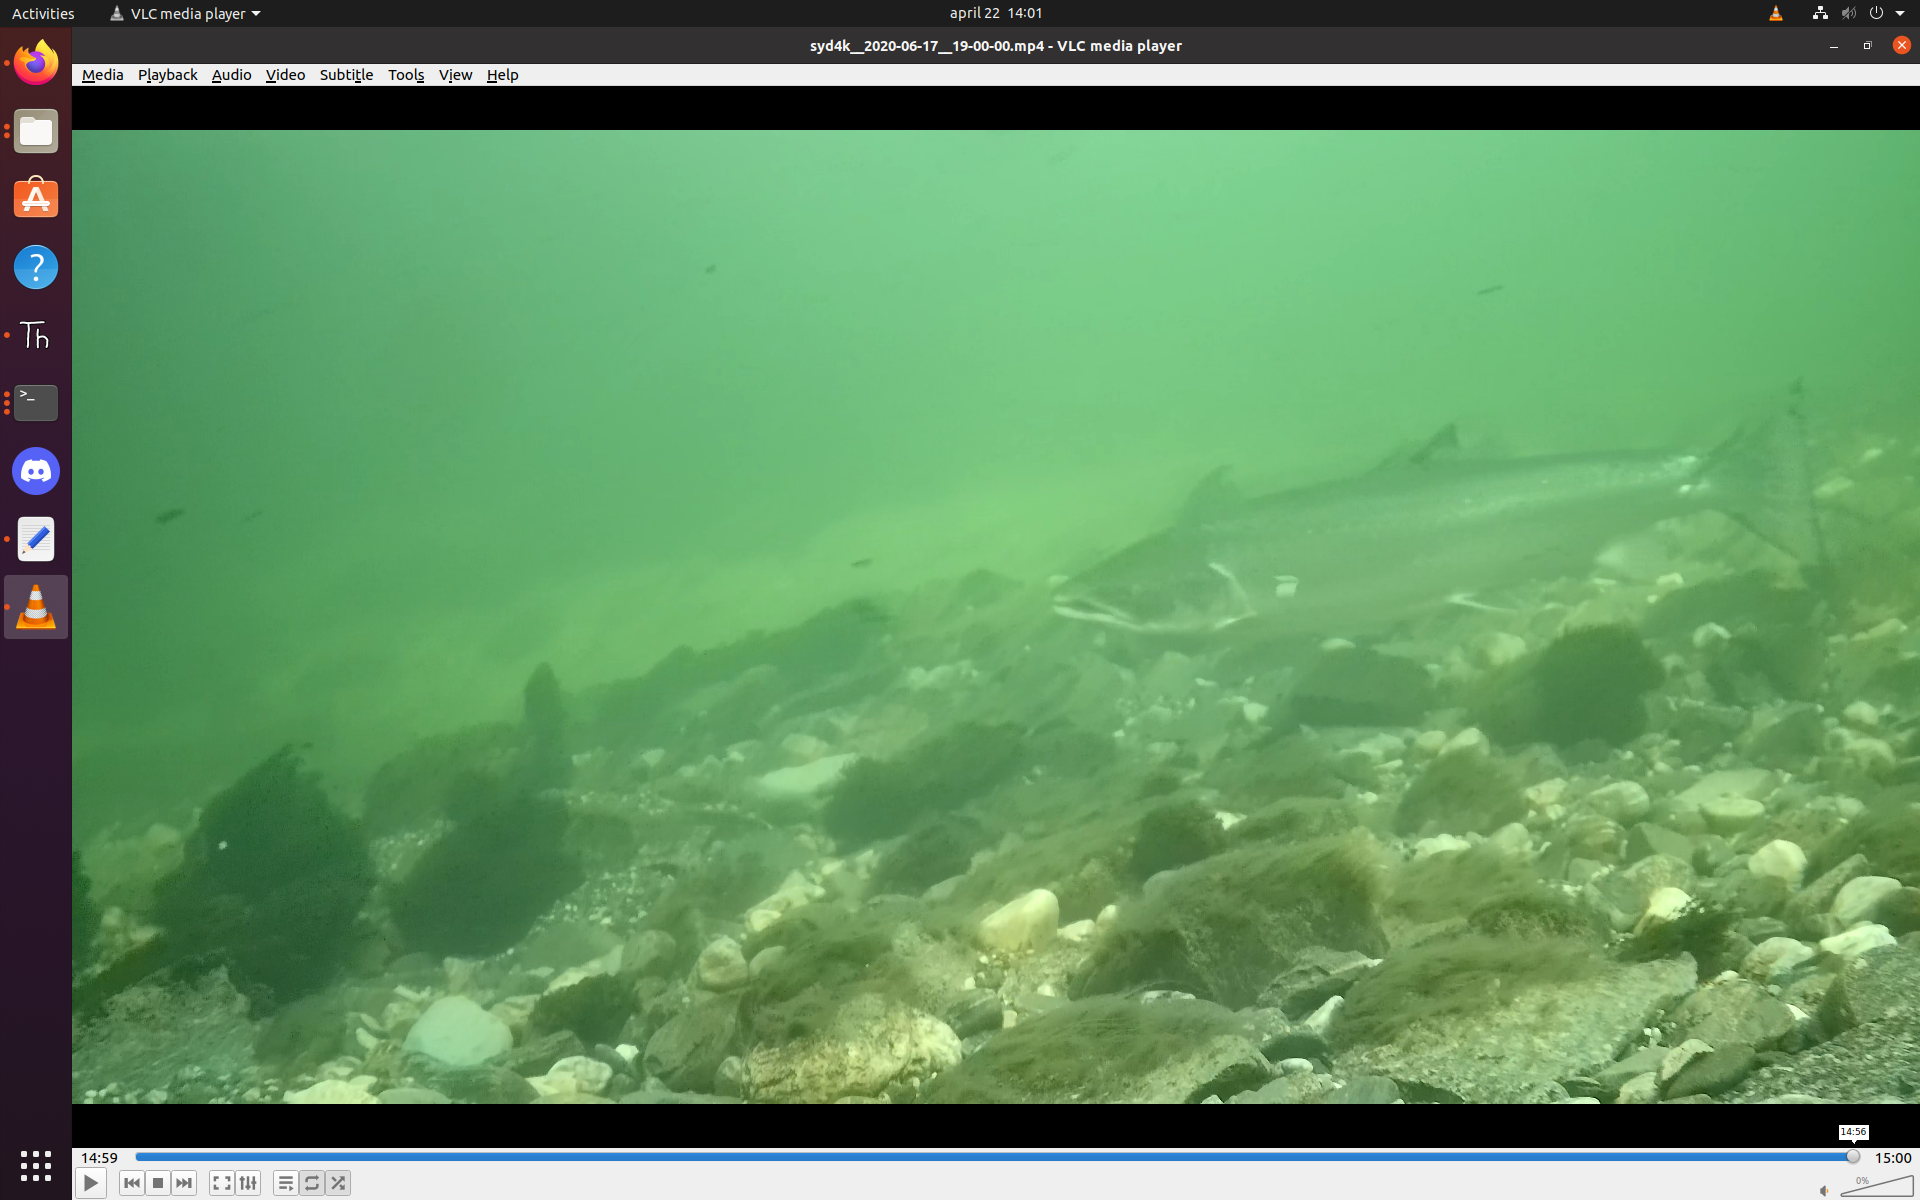salmon: (1051, 373, 1820, 640)
